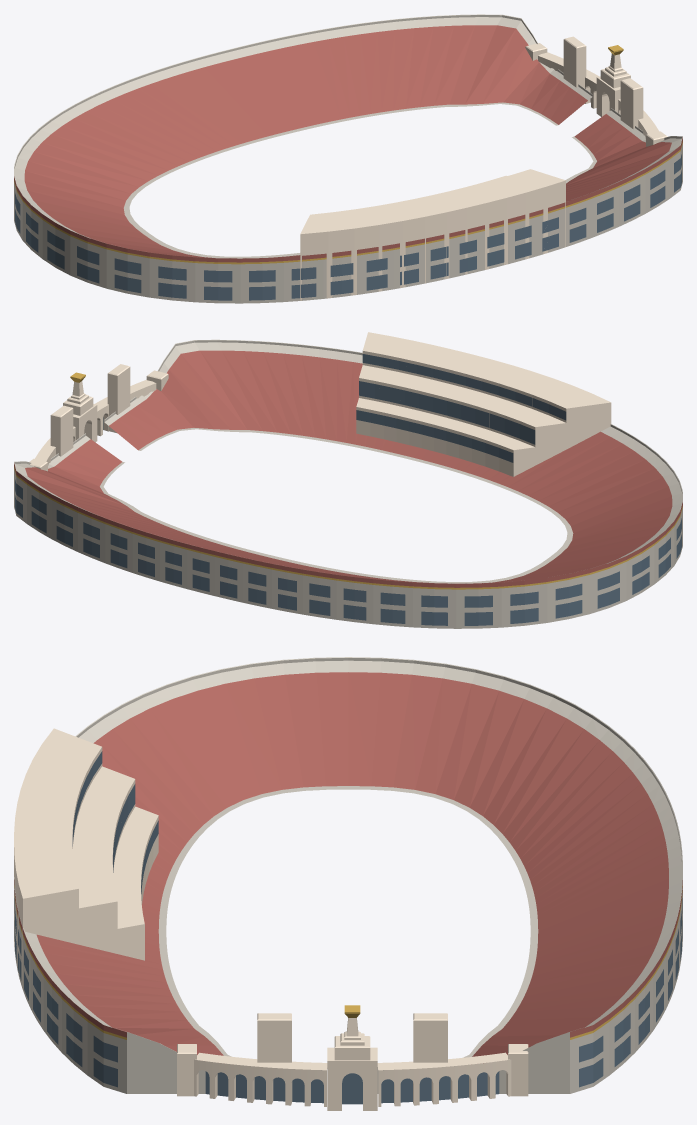
3 views of the same model, one above another, from view 1: azimuth 30°, elevation 25°; view 2: azimuth 150°, elevation 25°; view 3: azimuth 270°, elevation 25° (orthographic). The views are drawn at different scales.
Parts seen in each view (by area): view 1: los-angeles-memorial-coliseum; view 2: los-angeles-memorial-coliseum; view 3: los-angeles-memorial-coliseum.
Part boxes in pixels (x1,y1,x2,y2): los-angeles-memorial-coliseum: (14,14,682,303); los-angeles-memorial-coliseum: (14,332,682,628); los-angeles-memorial-coliseum: (14,657,682,1110).
Bounding box in the file's own units: 321 × 36.5 × 232.
